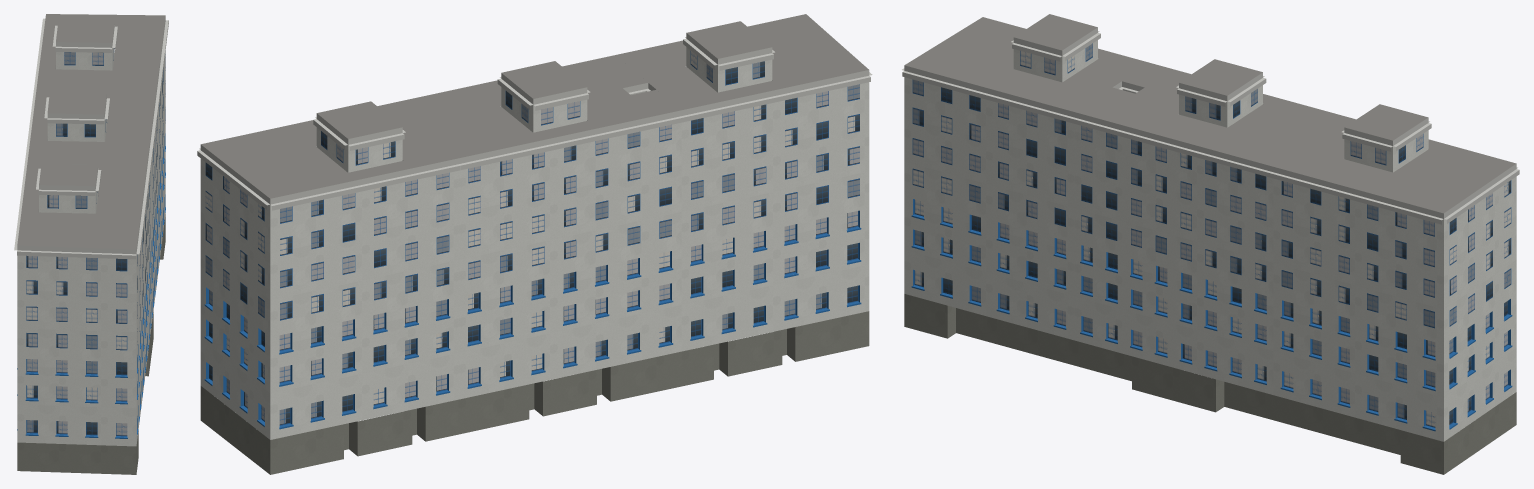
The model's file is z5c_herdern_block.glb.
3 renders of one model, left to right at view 1: azimuth 30°, elevation 25°; view 2: azimuth 150°, elevation 25°; view 3: azimuth 270°, elevation 25°, orthographic. The views are drawn at different scales.
Parts seen in each view (by area): view 1: z5c_herdern_block; view 2: z5c_herdern_block; view 3: z5c_herdern_block.
Boxes of the visible parts, <box> form: z5c_herdern_block: <box>14,14,168,474</box>; z5c_herdern_block: <box>197,14,872,474</box>; z5c_herdern_block: <box>902,14,1519,474</box>.
Bounding box in the file's own units: 38.73 × 26.58 × 50.84.
3 materials, 3 textured.
